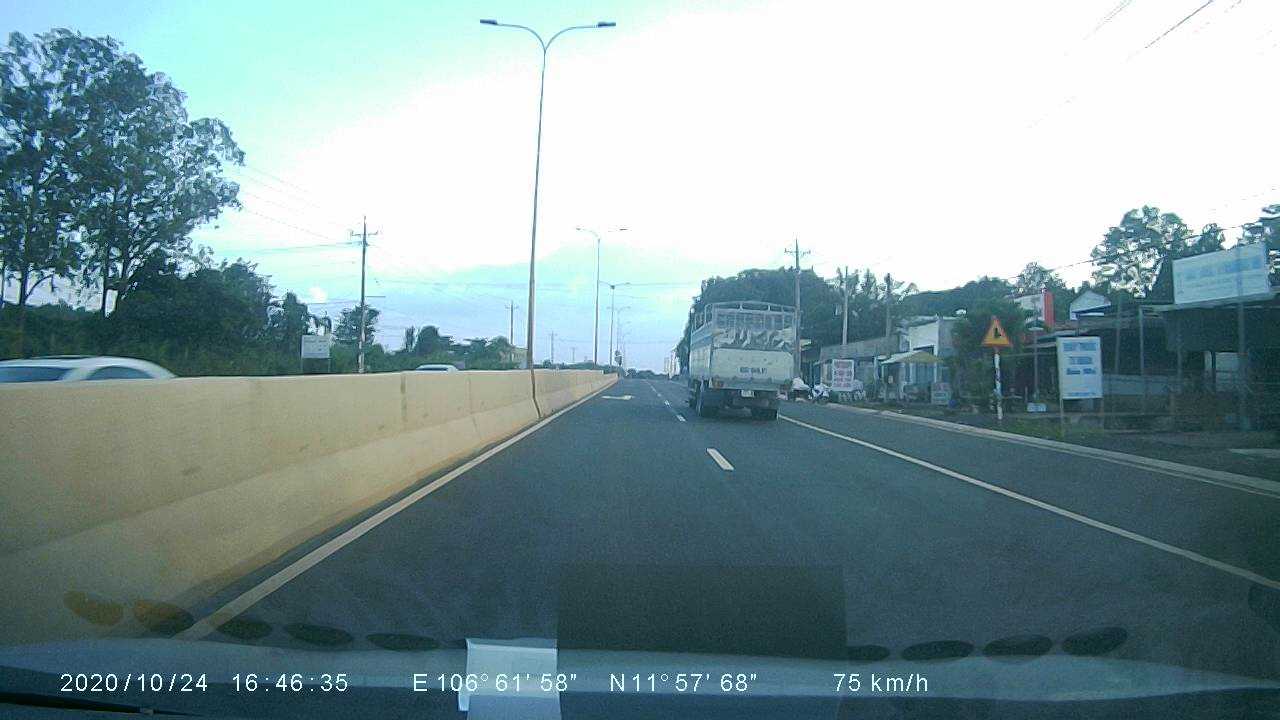Giao nhau voi duong khong uu tien: (976, 310, 1016, 353)
